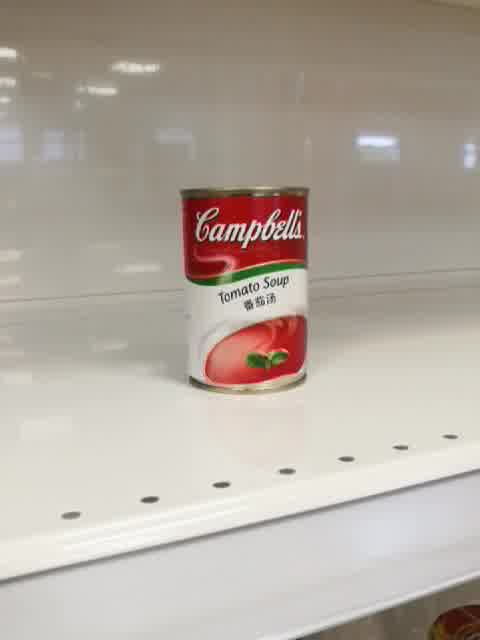tomatosoup: (178, 184, 313, 396)
